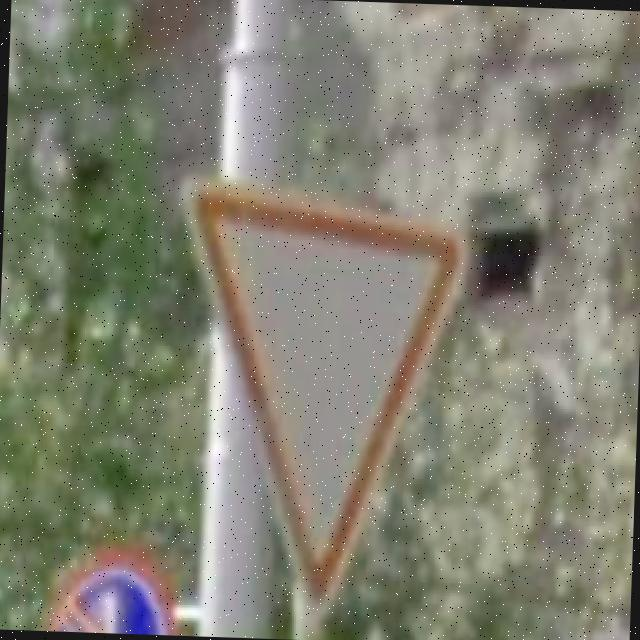Ustap pierwszenstwa: (158, 166, 477, 624)
